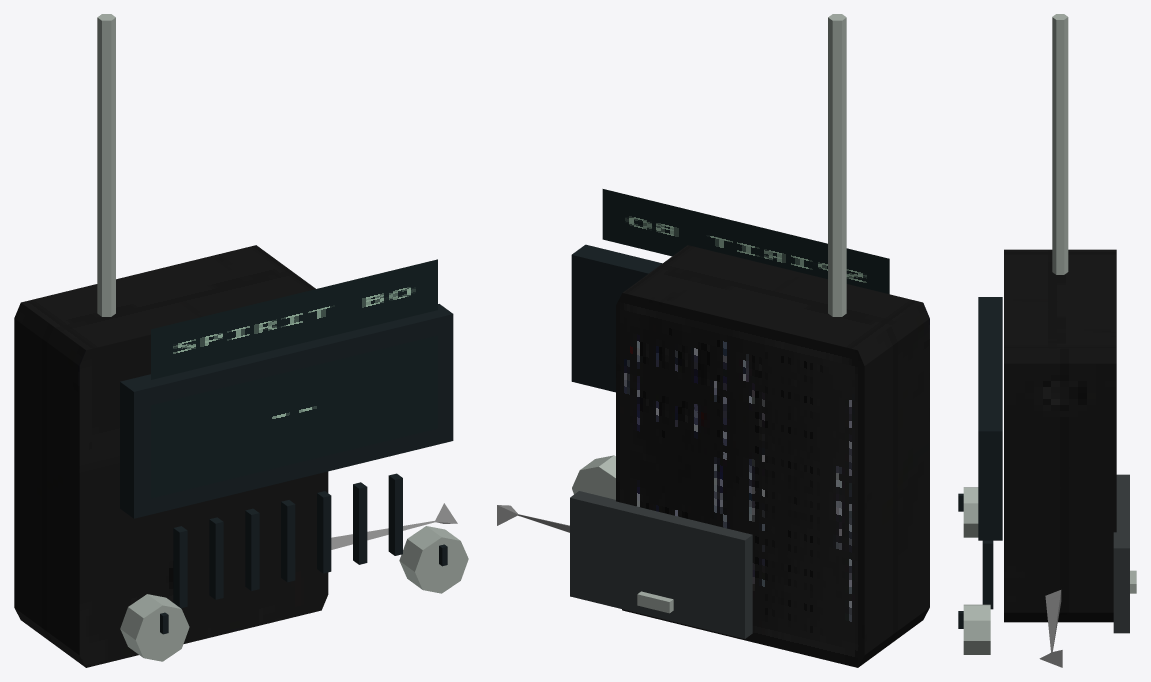
The model's file is blender_spirit_box_2.glb.
3 renders of one model, left to right at view 1: azimuth 30°, elevation 25°; view 2: azimuth 150°, elevation 25°; view 3: azimuth 270°, elevation 25°, orthographic. The views are drawn at different scales.
Parts seen in each view (by area): view 1: blender_spirit_box_2; view 2: blender_spirit_box_2; view 3: blender_spirit_box_2.
Boxes of the visible parts, <box> form: blender_spirit_box_2: <box>14,14,468,667</box>; blender_spirit_box_2: <box>497,14,929,667</box>; blender_spirit_box_2: <box>958,14,1136,667</box>.
Bounding box in the file's own units: 0.148 × 0.222 × 0.0665.
Materials: 1 (1 with a texture image).
